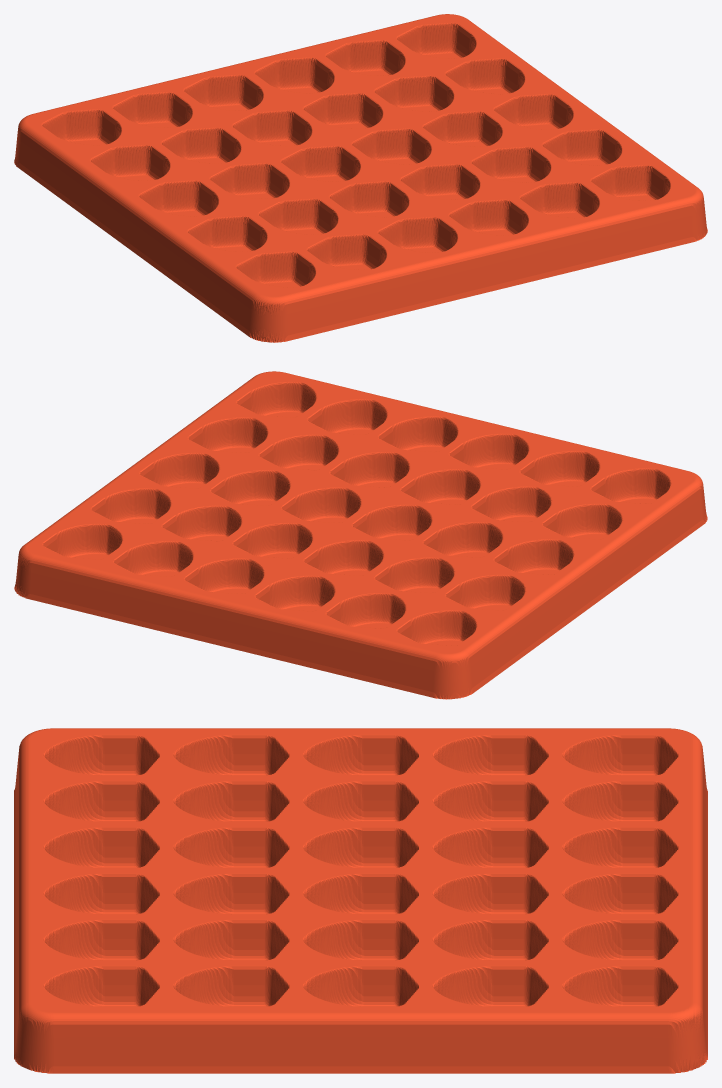
Rendered from mold.glb.
3 views of the same model, one above another, from view 1: azimuth 30°, elevation 25°; view 2: azimuth 150°, elevation 25°; view 3: azimuth 270°, elevation 25° (orthographic). The views are drawn at different scales.
Parts seen in each view (by area): view 1: geometry_0; view 2: geometry_0; view 3: geometry_0.
Part boxes in pixels (x1,y1,x2,y2): geometry_0: (14, 14, 707, 342); geometry_0: (14, 371, 707, 699); geometry_0: (14, 728, 707, 1073).
Bounding box in the file's own units: 0.16 × 0.0136 × 0.1581.
